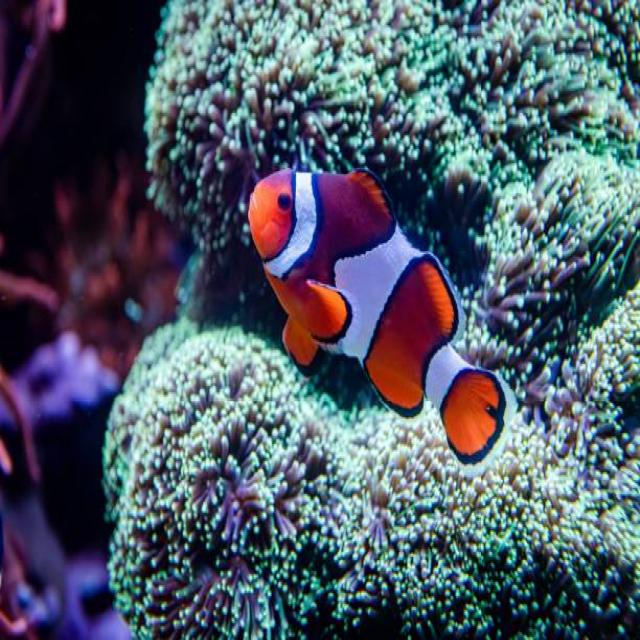ClownFish: (244, 163, 516, 475)
